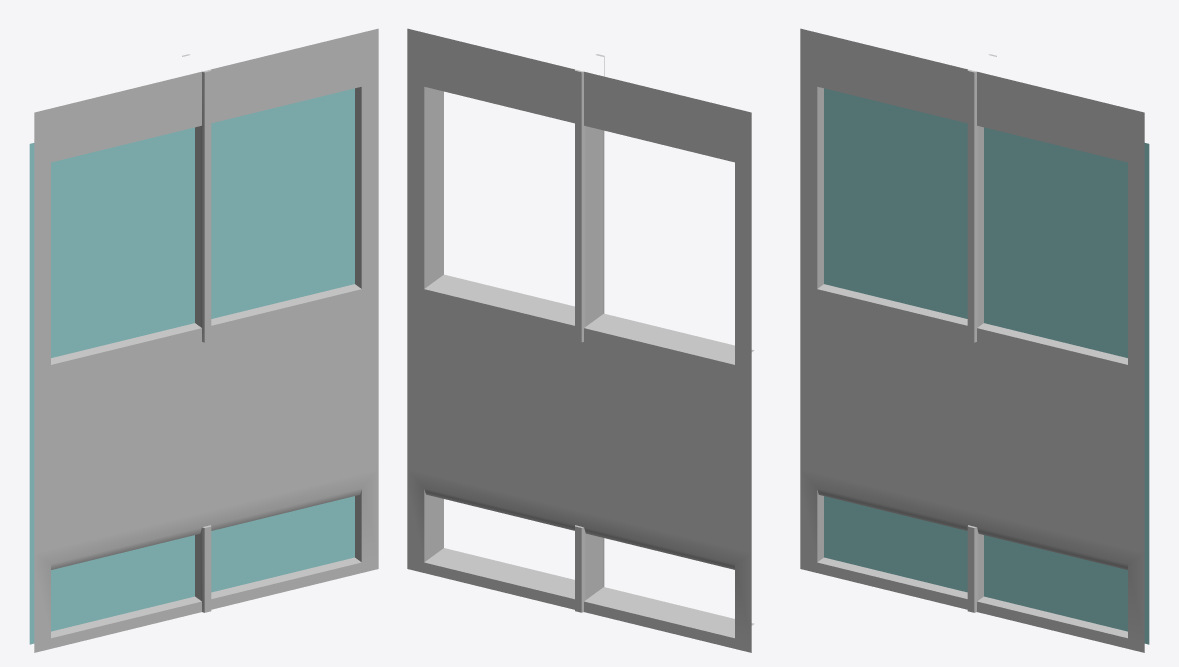
Rendered from Metal_Window_Half.gltf.
The picture shows the model from 3 angles, left to right: view 1: azimuth 30°, elevation 25°; view 2: azimuth 150°, elevation 25°; view 3: azimuth 330°, elevation 25°; orthographic projection.
Parts seen in each view (by area): view 1: Metal_Window_Half; view 2: Metal_Window_Half; view 3: Metal_Window_Half.
Boxes of the visible parts, box(x1,y1,x2,y2) form: Metal_Window_Half: box(29, 28, 378, 652); Metal_Window_Half: box(407, 28, 754, 652); Metal_Window_Half: box(800, 28, 1149, 652).
Bounding box in the file's own units: 2 × 3 × 0.2286.
